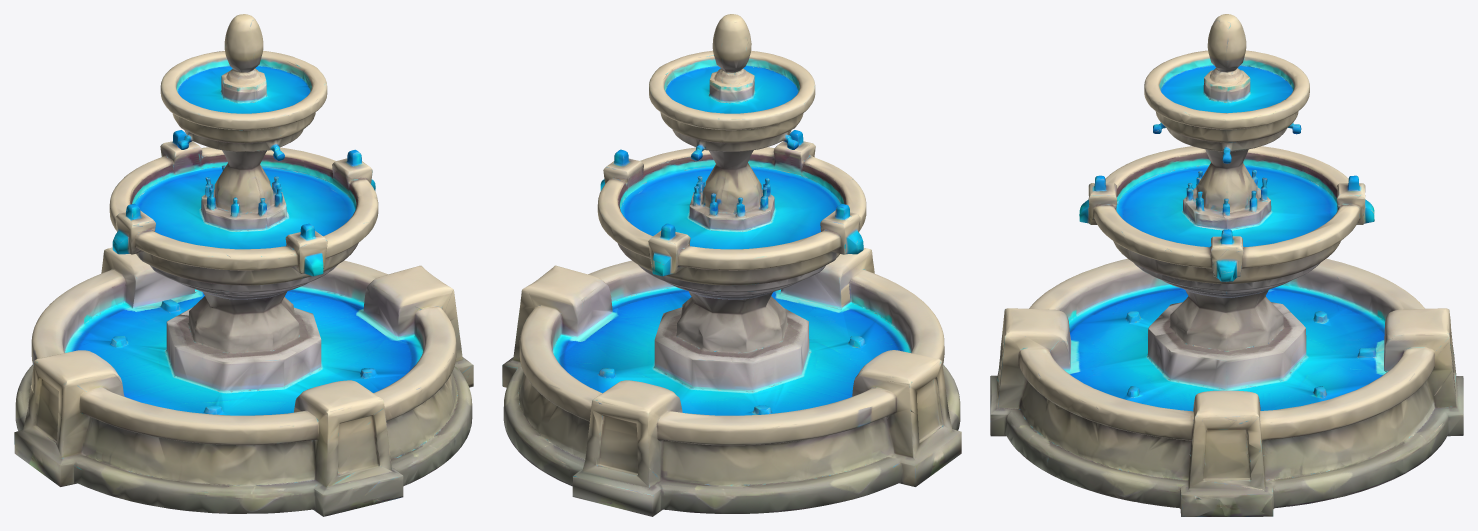
Rendered from 290f6c1c-f762-4b6c-a13f-a9fc5caa5218.glb.
3 views of the same model, side by side, from view 1: azimuth 30°, elevation 25°; view 2: azimuth 150°, elevation 25°; view 3: azimuth 270°, elevation 25° (orthographic).
Visible parts, largest first — view 1: Mesh_0; view 2: Mesh_0; view 3: Mesh_0.
Part boxes in pixels (x1,y1,x2,y2): Mesh_0: [14, 14, 473, 516]; Mesh_0: [502, 14, 961, 516]; Mesh_0: [990, 14, 1463, 516].
Size of the model in its own units: 1.9 by 1.77 by 1.9.
Materials: 1 (1 with a texture image).
